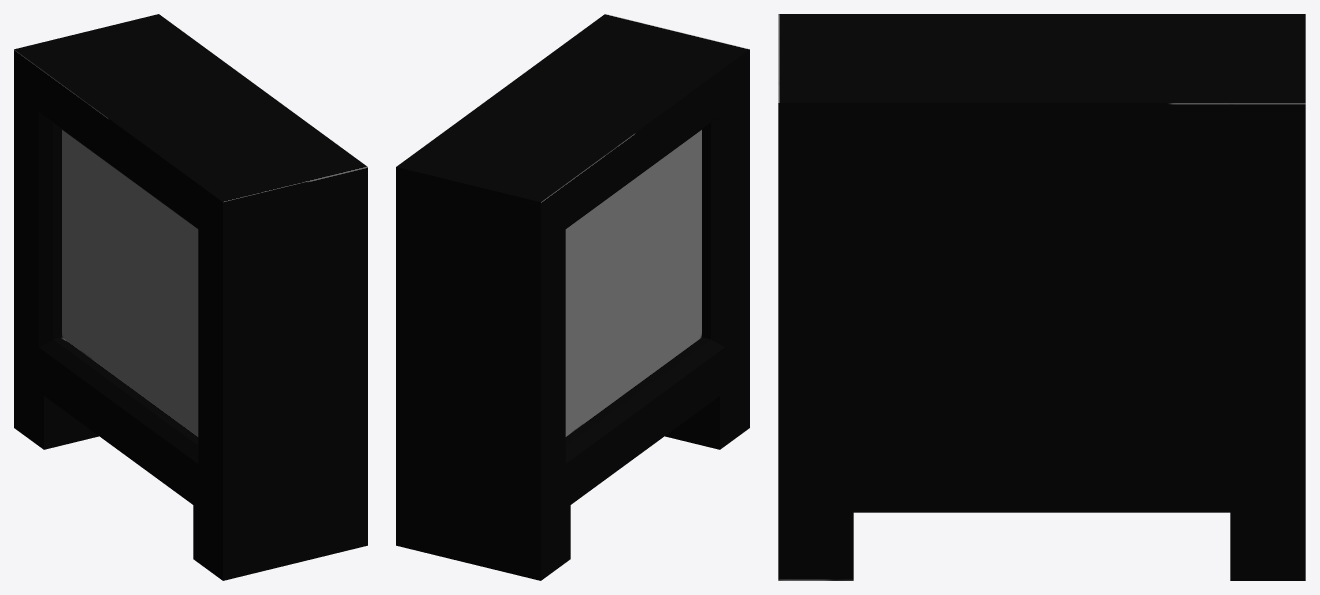
Rendered from Televisio.glb.
The picture shows the model from 3 angles, left to right: view 1: azimuth 30°, elevation 25°; view 2: azimuth 150°, elevation 25°; view 3: azimuth 270°, elevation 25°; orthographic projection. The views are drawn at different scales.
Parts seen in each view (by area): view 1: televisio; view 2: televisio; view 3: televisio.
Boxes of the visible parts, box(x1,y1,x2,y2) form: televisio: box(14, 14, 367, 580); televisio: box(396, 14, 749, 580); televisio: box(778, 14, 1305, 580).
Size of the model in its own units: 0.8 by 2 by 2.
1 material, 1 textured.
